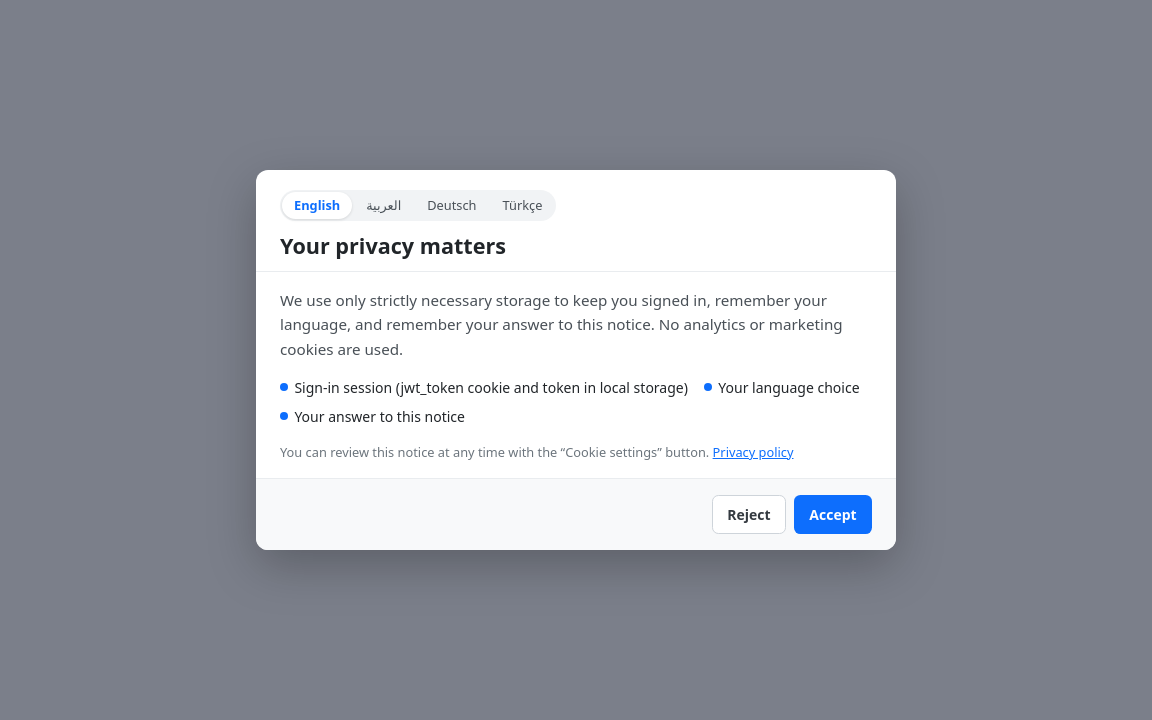
Test: switches to Arabic and lays out the dialog right-to-left
Later steps or results of the test are not shown.
Step 1. Click the button "العربية" → (384,206), box [354, 192, 413, 219]
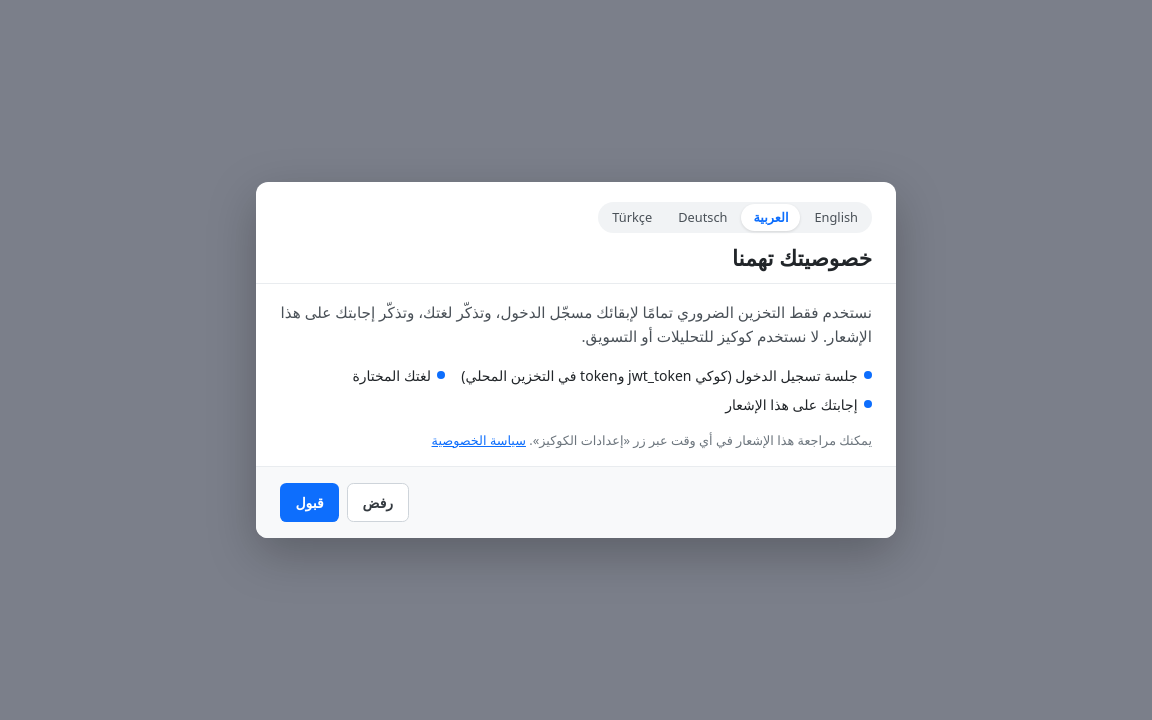
Now the heading "خصوصيتك تهمنا" is shown, box [732, 243, 872, 272]
